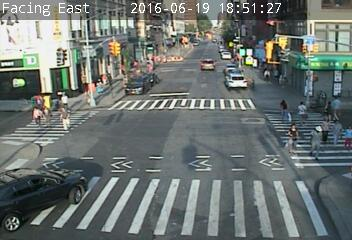neg: (308, 192, 333, 225), (99, 105, 120, 134), (165, 37, 184, 63), (233, 35, 252, 60), (276, 49, 295, 74), (110, 54, 127, 77), (50, 157, 67, 180), (190, 54, 206, 76), (214, 39, 230, 61), (181, 27, 197, 48), (89, 160, 104, 180), (74, 81, 87, 98), (218, 71, 231, 88), (234, 85, 246, 100), (131, 36, 143, 51), (146, 83, 157, 99)
pos: (279, 120, 307, 157), (304, 124, 329, 157), (314, 114, 338, 145), (325, 94, 348, 124), (52, 104, 74, 133), (34, 102, 56, 130), (272, 97, 293, 124), (292, 98, 313, 125), (318, 98, 338, 126), (328, 119, 348, 146), (25, 105, 45, 132), (337, 121, 351, 152), (54, 88, 72, 112), (259, 64, 275, 86)
